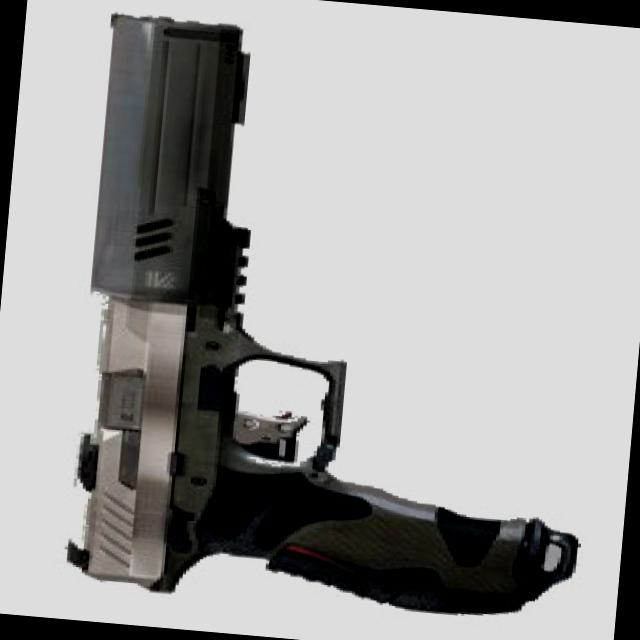handgun: (61, 12, 611, 625)
